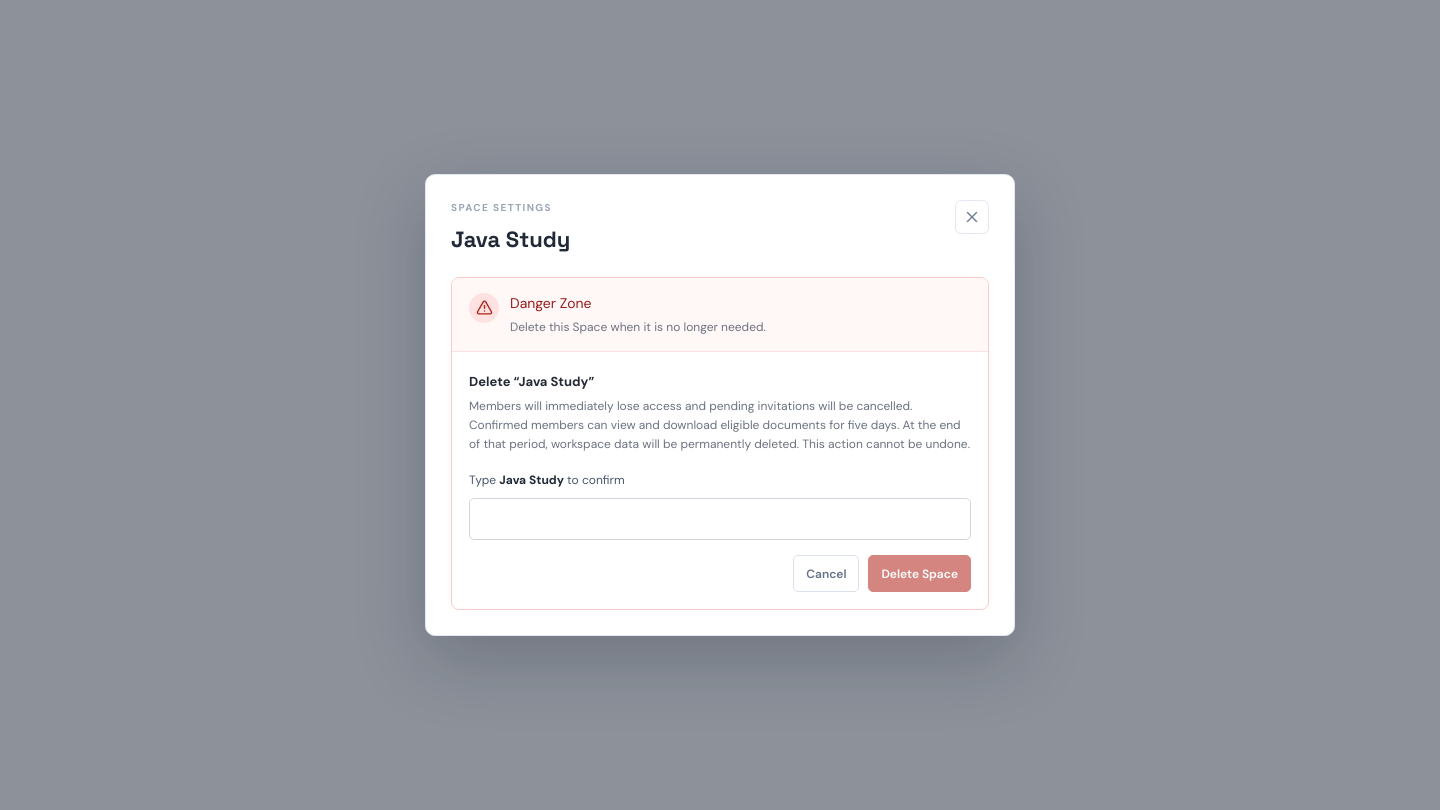
Test: workspace deletion confirmation › keeps the confirmation open and reports a backend failure
Type "Java Study" into the field labelled "Type Java Study to confirm" at (720, 519), box x1=469 y1=498 x2=971 y2=540
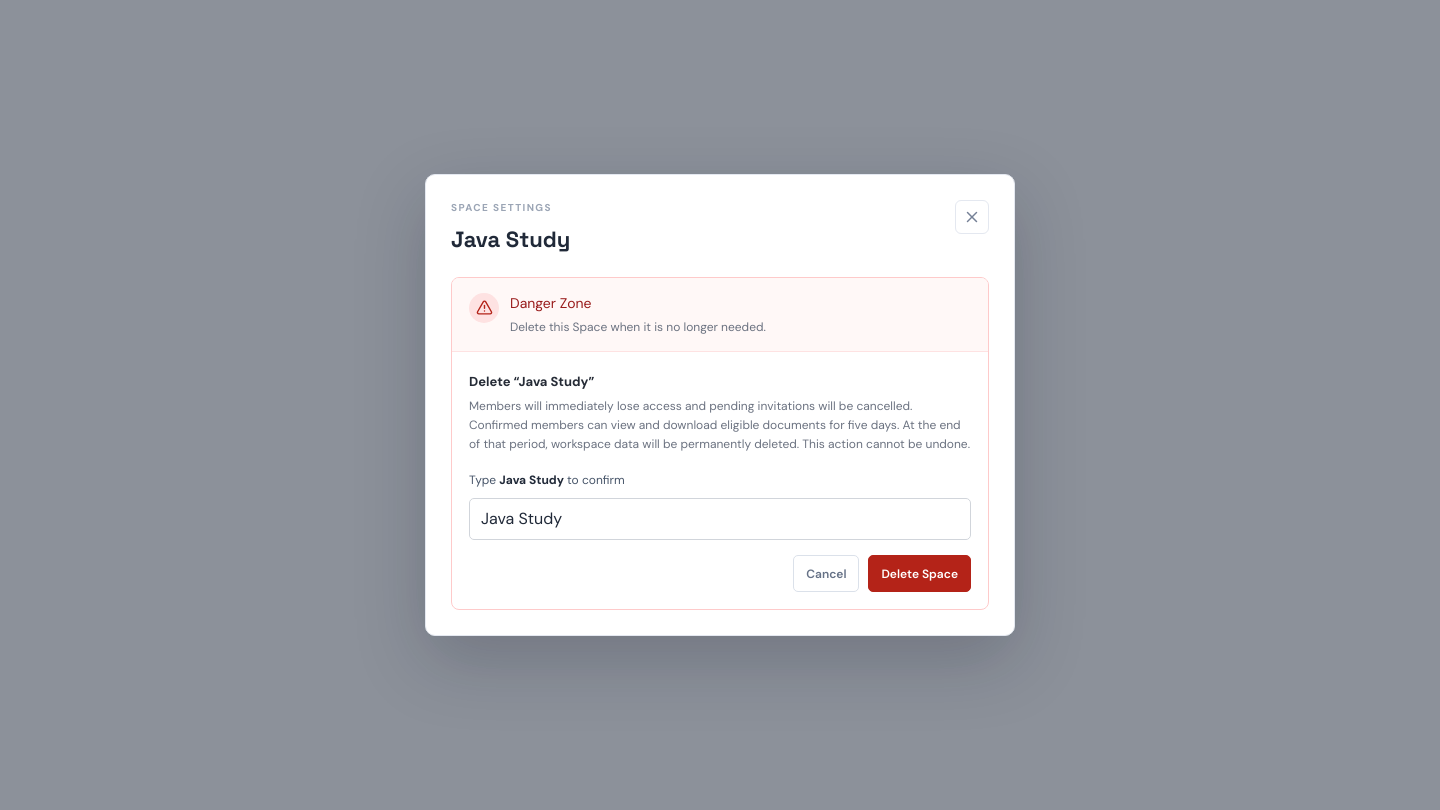
Click the button "Delete Space" at (920, 574), box x1=868 y1=555 x2=971 y2=592
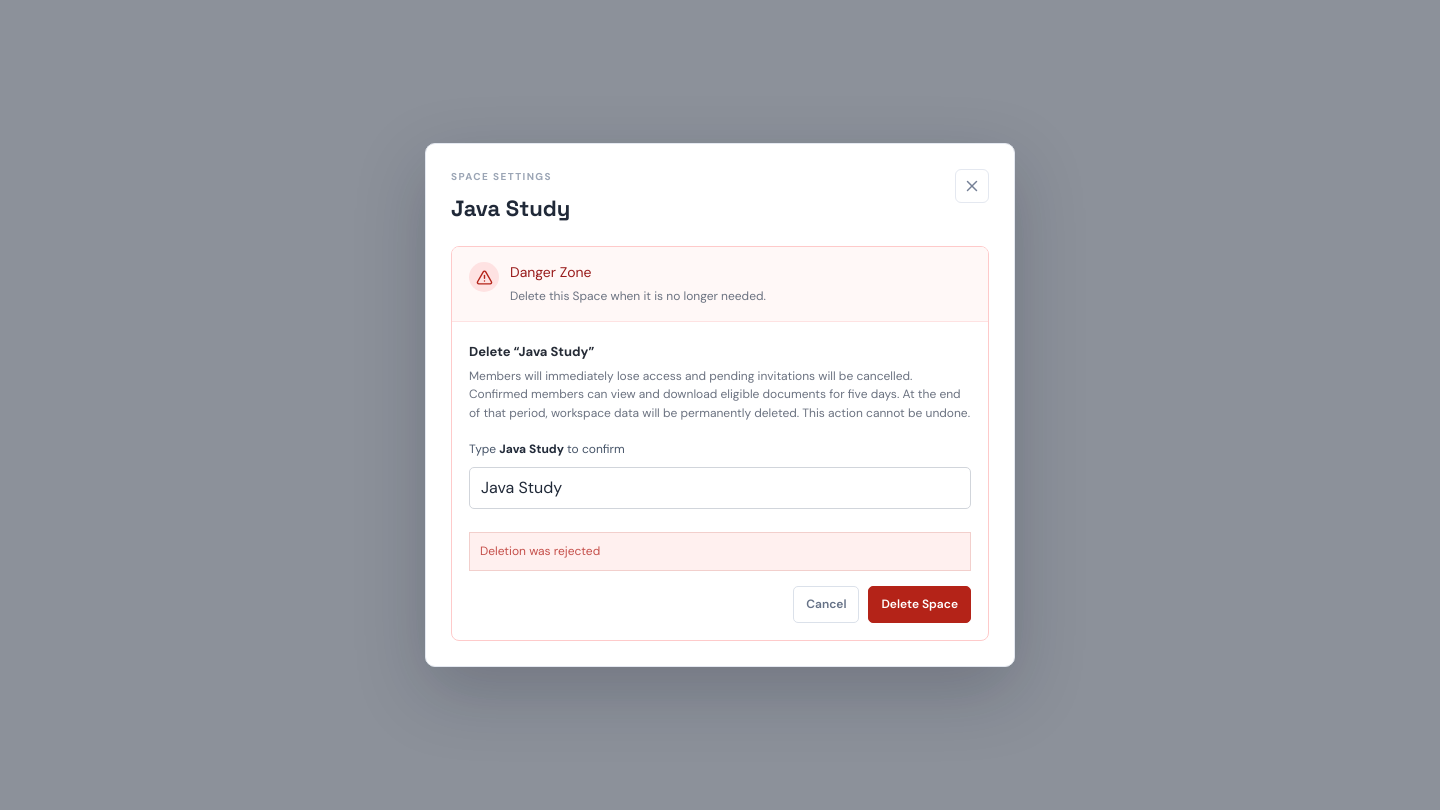
Check: the button "Delete Space" is enabled, box x1=868 y1=586 x2=971 y2=623
Check: the message reads "Deletion was rejected", box x1=480 y1=543 x2=600 y2=559
